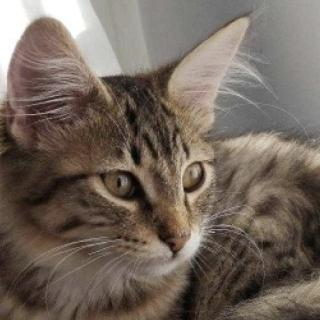cat: (2, 14, 252, 279)
nose: (151, 194, 198, 253)
